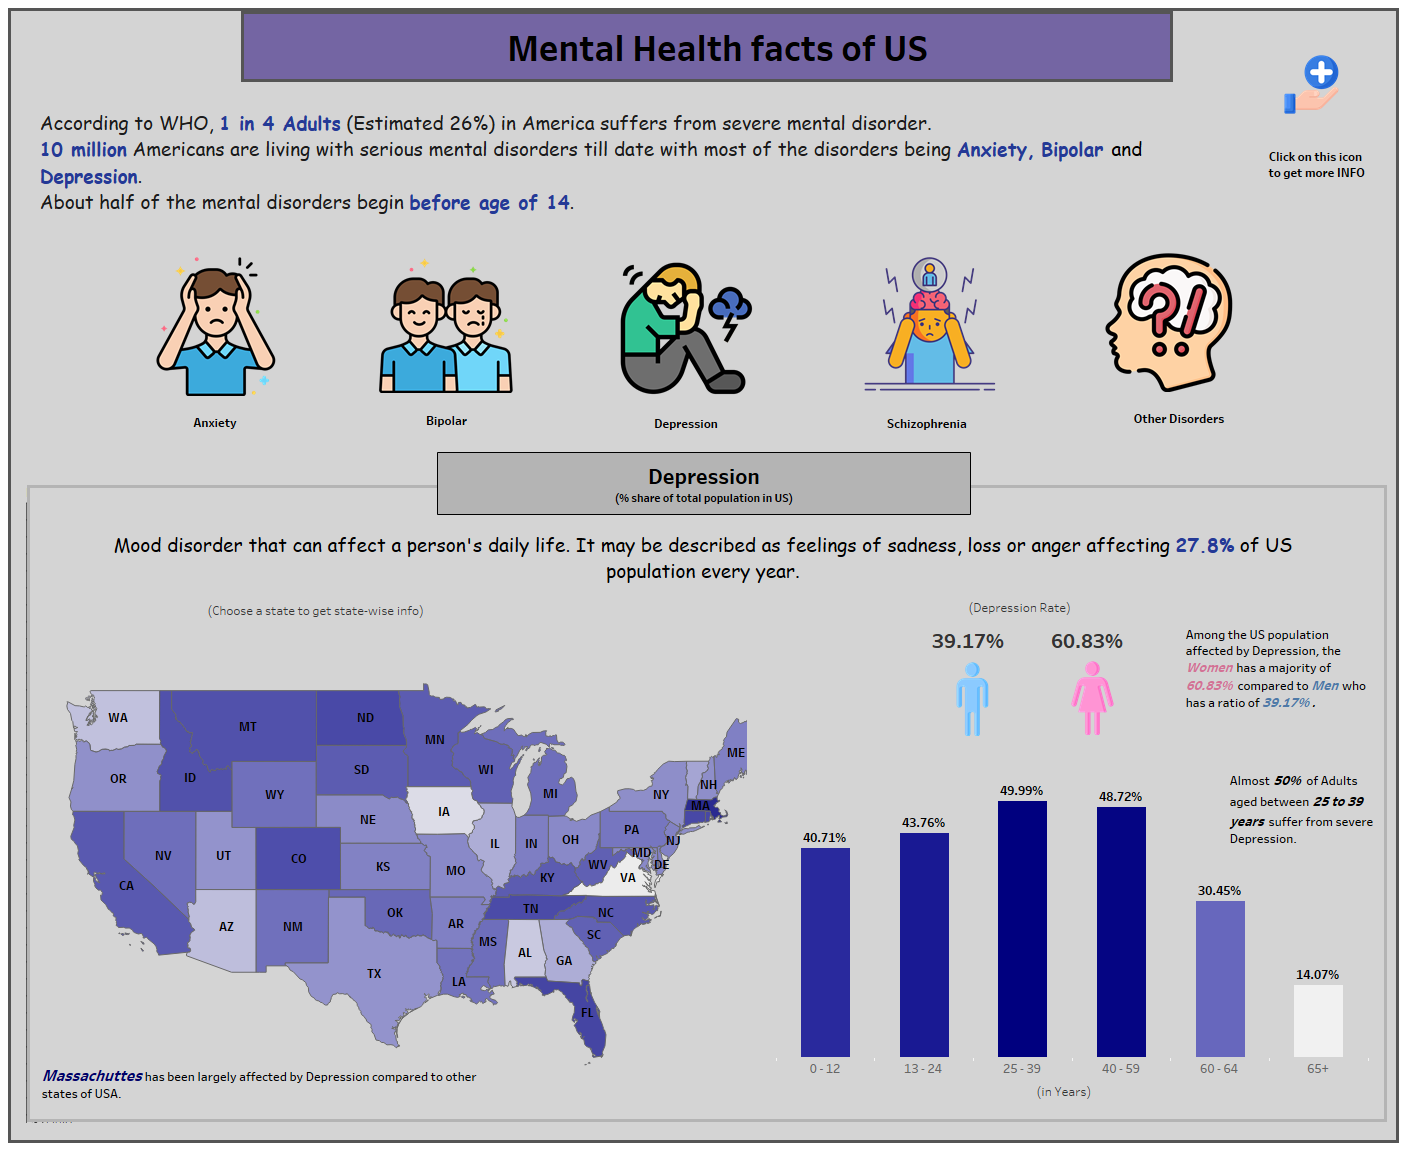

What the dashboard file says about the page in this screenshot:
{"tool":"tableau","page":{"name":"Dashboard 7_1_3","canvas":[1407,1151],"ordinal":2},"visuals":[{"type":"text","box":[241,11,932,71]},{"type":"image","param":"Image/medical-services.png","box":[1279,52,65,64]},{"type":"text","box":[37,89,1118,148]},{"type":"text","box":[1260,121,111,87]},{"type":"dashboard-object","box":[860.2,247.5,139.3,151.5]},{"type":"dashboard-object","box":[1098.8,248.9,139.3,147.4]},{"type":"dashboard-object","box":[377.9,252.9,135,146.1]},{"type":"dashboard-object","box":[616.5,252.9,139.3,150.1]},{"type":"dashboard-object","box":[146,254.3,139.3,144.7]},{"type":"text","box":[1113,400,132,36]},{"type":"text","box":[400.8,400.4,91.7,39.2]},{"type":"text","box":[169,401.7,91.7,40.6]},{"type":"text","box":[871,402,112,42]},{"type":"text","box":[640.2,404.4,91.7,37.9]},{"type":"text","box":[437,452,534,63]},{"type":"filter","title":"Depression_Map","param":"[federated.1oxck0e0dr8f3q0ztqk171cwpb6l].[none:LocationDesc:nk]","box":[22,479,1363,648]},{"type":"blank","box":[27,485,1360,637]},{"type":"text","box":[81,516,1244,84]},{"type":"text","box":[205,581,339,58]},{"type":"text","box":[966,582,155,50]},{"type":"image","param":"Image/female.png","box":[1055,588,74,220]},{"type":"text","box":[1183,592,193,155]},{"type":"image","param":"Image/male.png","box":[935,605,74,188]},{"type":"worksheet","title":"Male_Depression","mark":"Automatic","box":[928,627,118,38]},{"type":"worksheet","title":"Female_Depression","mark":"Automatic","box":[1047,627,106,34]},{"type":"worksheet","title":"Depression_Map","mark":"Multipolygon","box":[30,671,721,414]},{"type":"text","box":[1227,749,151,120]},{"type":"worksheet","title":"Depression_Bar","mark":"Automatic","rows":["BipolarCount (copy)_202943526286426114"],"cols":["Age"],"box":[772,767,600,315]},{"type":"text","box":[39,1039,443,90]},{"type":"text","box":[1034,1076,100,30]}]}

Visuals, with their boxes in screenshot pixels (x1, y1, x2, y2), scaled from the page's 1407x1151 canvas onto the 1407x1151 screenshot:
text: 241/11/1173/82
image: 1279/52/1344/116
text: 37/89/1155/237
text: 1260/121/1371/208
dashboard-object: 860/248/1000/399
dashboard-object: 1099/249/1238/396
dashboard-object: 378/253/513/399
dashboard-object: 616/253/756/403
dashboard-object: 146/254/285/399
text: 1113/400/1245/436
text: 401/400/492/440
text: 169/402/261/442
text: 871/402/983/444
text: 640/404/732/442
text: 437/452/971/515
"Depression_Map" filter: 22/479/1385/1127
blank: 27/485/1387/1122
text: 81/516/1325/600
text: 205/581/544/639
text: 966/582/1121/632
image: 1055/588/1129/808
text: 1183/592/1376/747
image: 935/605/1009/793
"Male_Depression" worksheet: 928/627/1046/665
"Female_Depression" worksheet: 1047/627/1153/661
"Depression_Map" worksheet (Multipolygon marks): 30/671/751/1085
text: 1227/749/1378/869
"Depression_Bar" worksheet: 772/767/1372/1082
text: 39/1039/482/1129
text: 1034/1076/1134/1106
